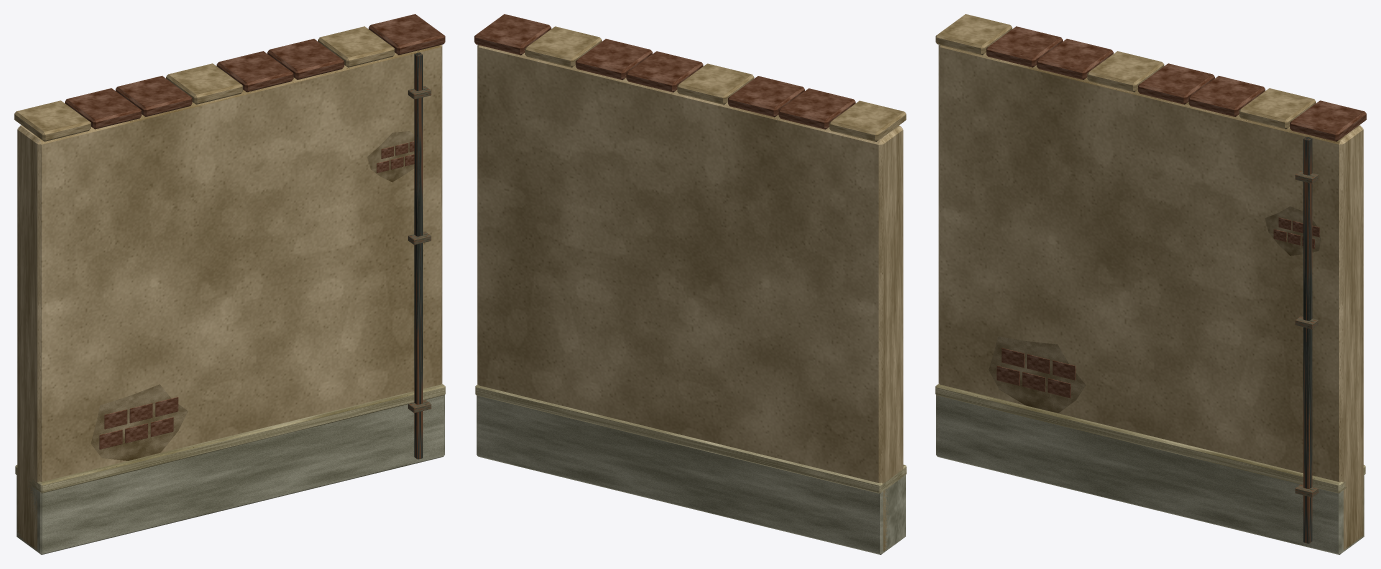
File: plaster_wall_3m.glb
3 views of the same model, side by side, from view 1: azimuth 30°, elevation 25°; view 2: azimuth 150°, elevation 25°; view 3: azimuth 330°, elevation 25° (orthographic).
Visible parts, largest first — view 1: plaster_wall_3m; view 2: plaster_wall_3m; view 3: plaster_wall_3m.
Part boxes in pixels (<box>): plaster_wall_3m: <box>14,14,445,554</box>; plaster_wall_3m: <box>474,14,906,554</box>; plaster_wall_3m: <box>935,14,1366,554</box>.
Size of the model in its own units: 3 by 3 by 0.454.
1 material, 1 textured.
